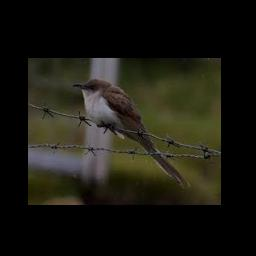Cuckoo: (72, 78, 191, 187)
